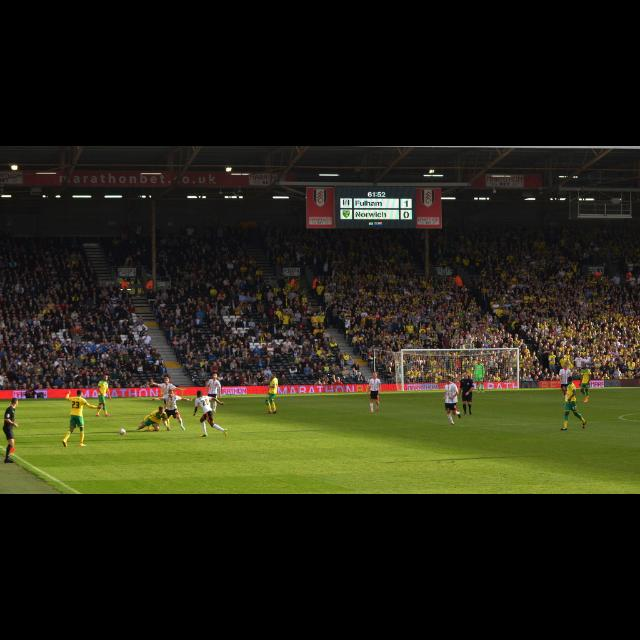Football: (118, 429, 124, 435)
